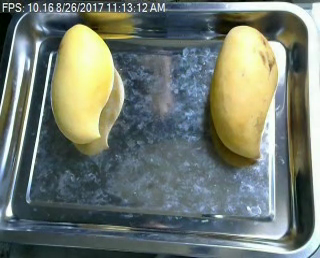Mango: (208, 20, 282, 165), (46, 24, 120, 145)
